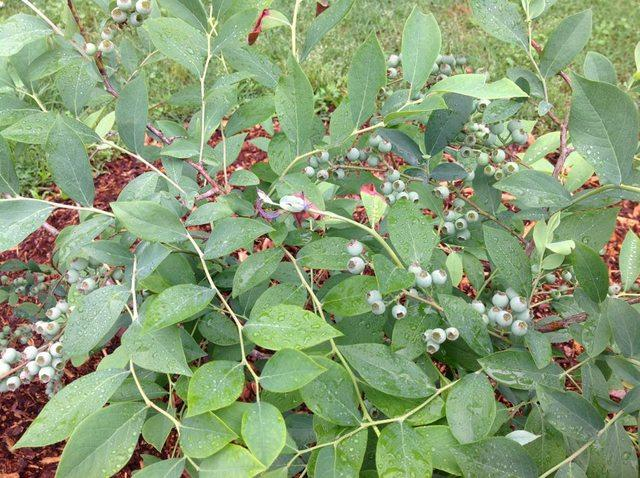Blueberry leaf: (1, 361, 133, 459), (561, 74, 640, 198), (334, 24, 404, 150), (328, 340, 447, 402), (39, 111, 102, 225), (62, 410, 167, 478), (532, 6, 607, 96), (236, 296, 342, 357), (381, 196, 455, 281), (396, 3, 454, 110), (69, 271, 144, 353), (475, 216, 532, 314), (172, 356, 254, 422), (267, 49, 318, 154), (442, 363, 504, 449), (291, 237, 399, 286), (467, 340, 562, 395), (535, 378, 615, 441), (132, 284, 220, 340), (113, 63, 161, 161), (105, 193, 193, 243), (372, 417, 444, 478), (193, 215, 279, 266), (262, 343, 337, 399), (224, 247, 288, 304), (447, 433, 526, 478)
